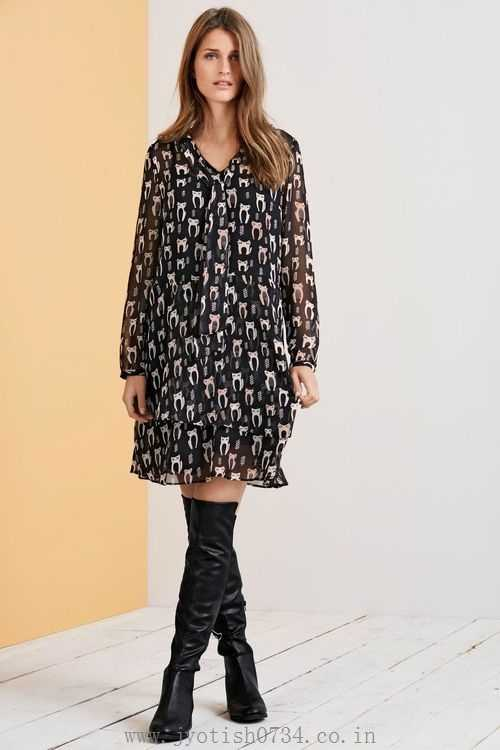C_dress: (100, 125, 333, 479)
